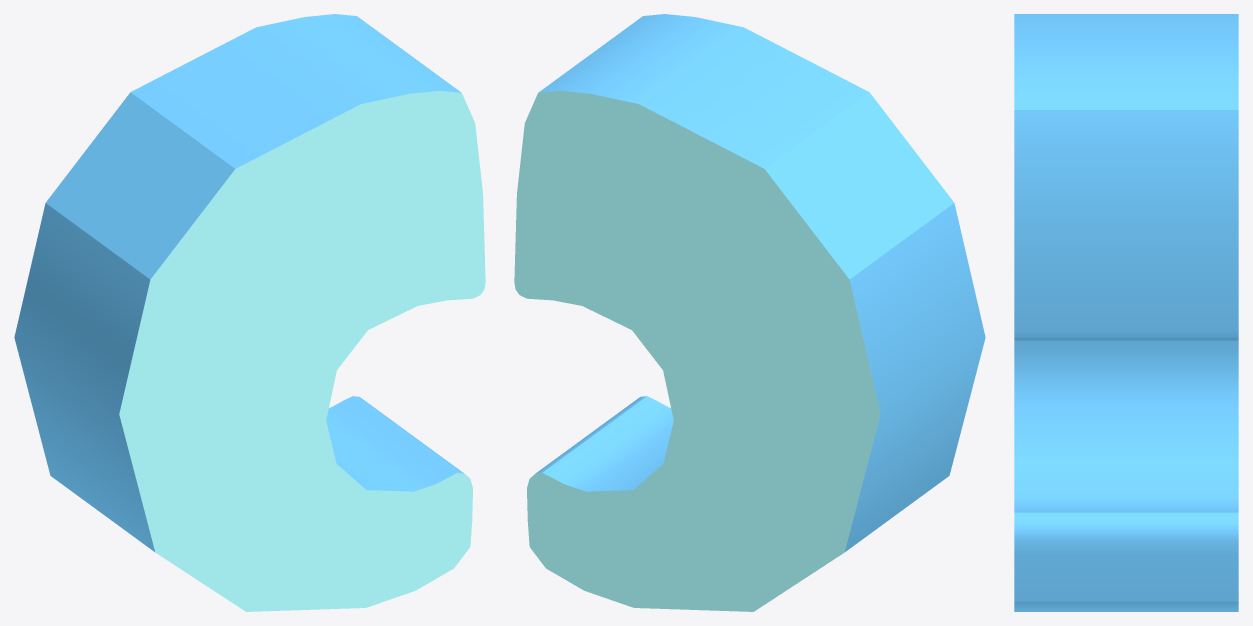
3 renders of one model, left to right at view 1: azimuth 30°, elevation 25°; view 2: azimuth 150°, elevation 25°; view 3: azimuth 270°, elevation 25°, orthographic. The views are drawn at different scales.
Parts seen in each view (by area): view 1: c; view 2: c; view 3: c.
Part boxes in pixels (x1,y1,x2,y2): c: [14, 14, 485, 611]; c: [514, 14, 985, 611]; c: [1014, 14, 1238, 611].
Size of what is drawn, in the model's own units: 0.363 by 0.4782 by 0.18.
